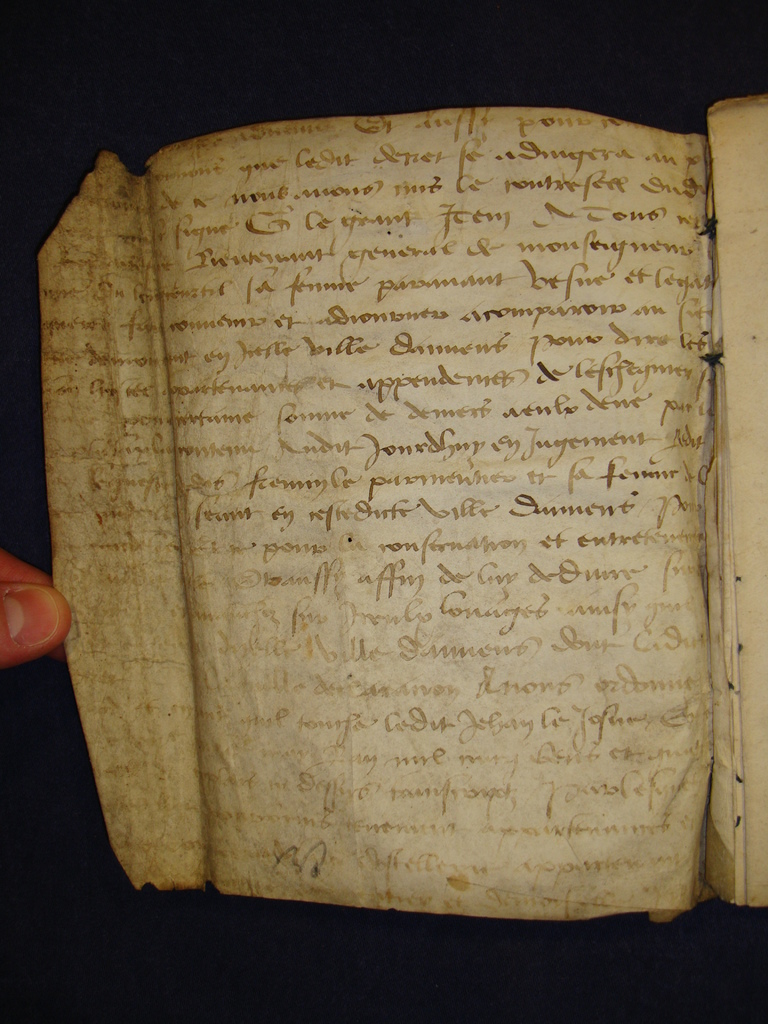Book: (30, 92, 767, 901)
